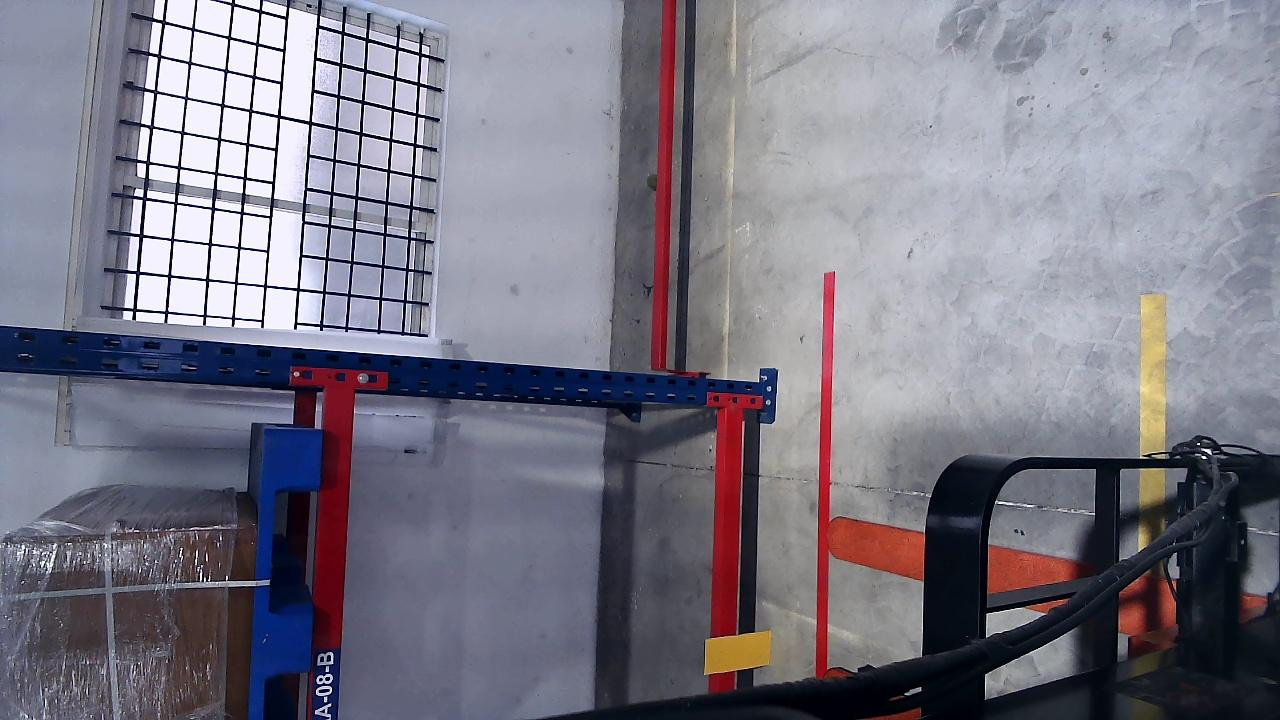h_rack: (718, 410, 743, 692), (320, 387, 339, 720)
orange_strip: (706, 640, 770, 663)
red_line: (821, 274, 831, 678)
small_pallet: (257, 431, 323, 720)
yellow_line: (1137, 293, 1167, 557)
